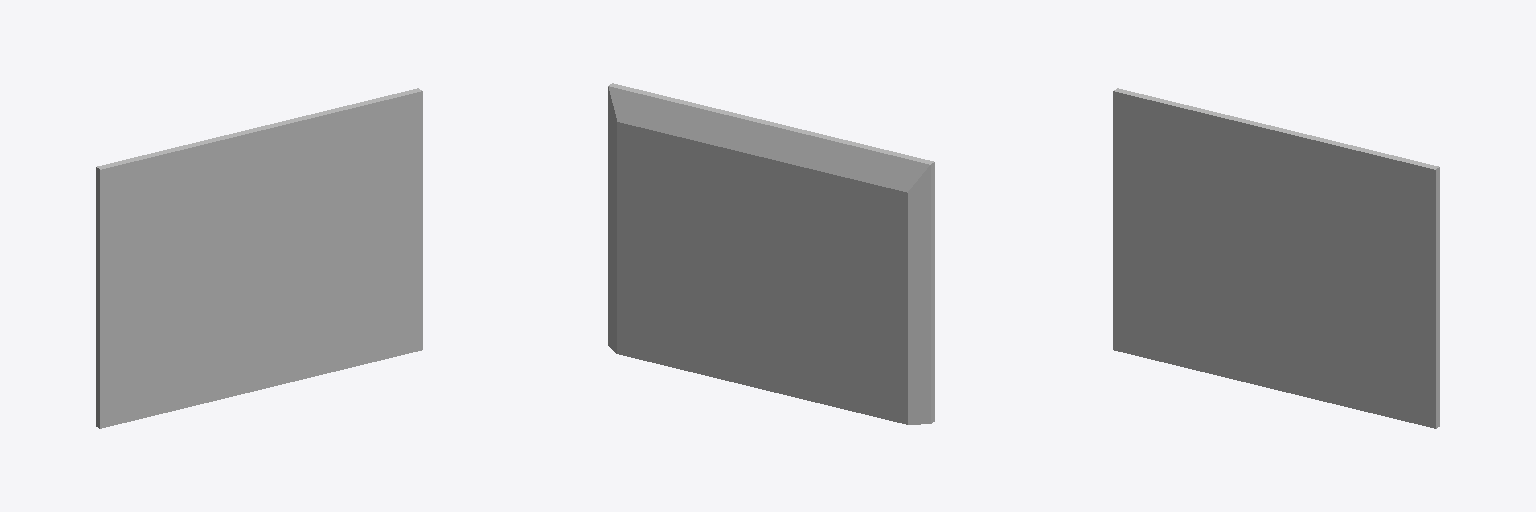
The model's file is lav III_Cassie_Door .obj.
3 views of the same model, side by side, from view 1: azimuth 30°, elevation 25°; view 2: azimuth 150°, elevation 25°; view 3: azimuth 330°, elevation 25° (orthographic).
Visible parts, largest first — view 1: lav_Casse_door_Cube.003; view 2: lav_Casse_door_Cube.003; view 3: lav_Casse_door_Cube.003.
Boxes of the visible parts, x1,y1,x2,y2 form: lav_Casse_door_Cube.003: [96, 88, 422, 428]; lav_Casse_door_Cube.003: [608, 83, 934, 424]; lav_Casse_door_Cube.003: [1113, 88, 1439, 428].
Size of the model in its own units: 2.71 by 2.08 by 0.16.